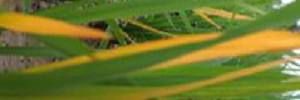RiceTungro: (1, 8, 117, 49), (173, 29, 300, 58)
